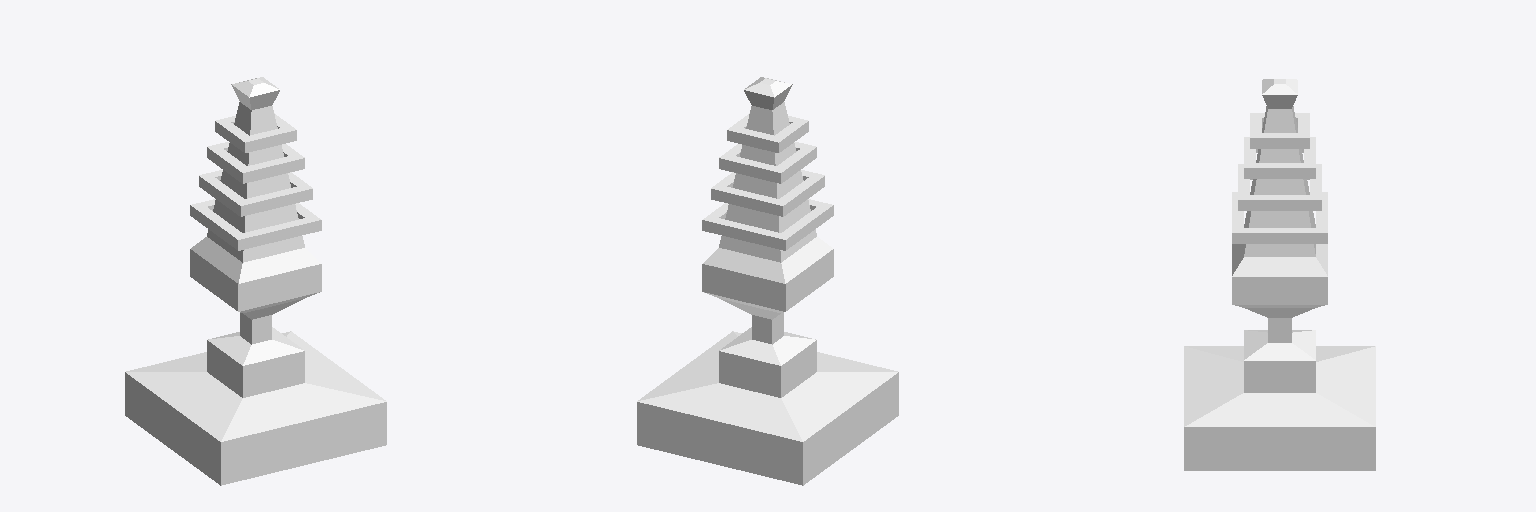
The model's file is space_laser.obj.
The picture shows the model from 3 angles: view 1: azimuth 30°, elevation 25°; view 2: azimuth 150°, elevation 25°; view 3: azimuth 270°, elevation 25°; orthographic projection.
Parts seen in each view (by area): view 1: Cube; view 2: Cube; view 3: Cube.
Boxes of the visible parts, x1,y1,x2,y2 form: Cube: [125, 77, 386, 485]; Cube: [637, 77, 898, 485]; Cube: [1184, 79, 1375, 470].
Bounding box in the file's own units: 1 × 2 × 1.